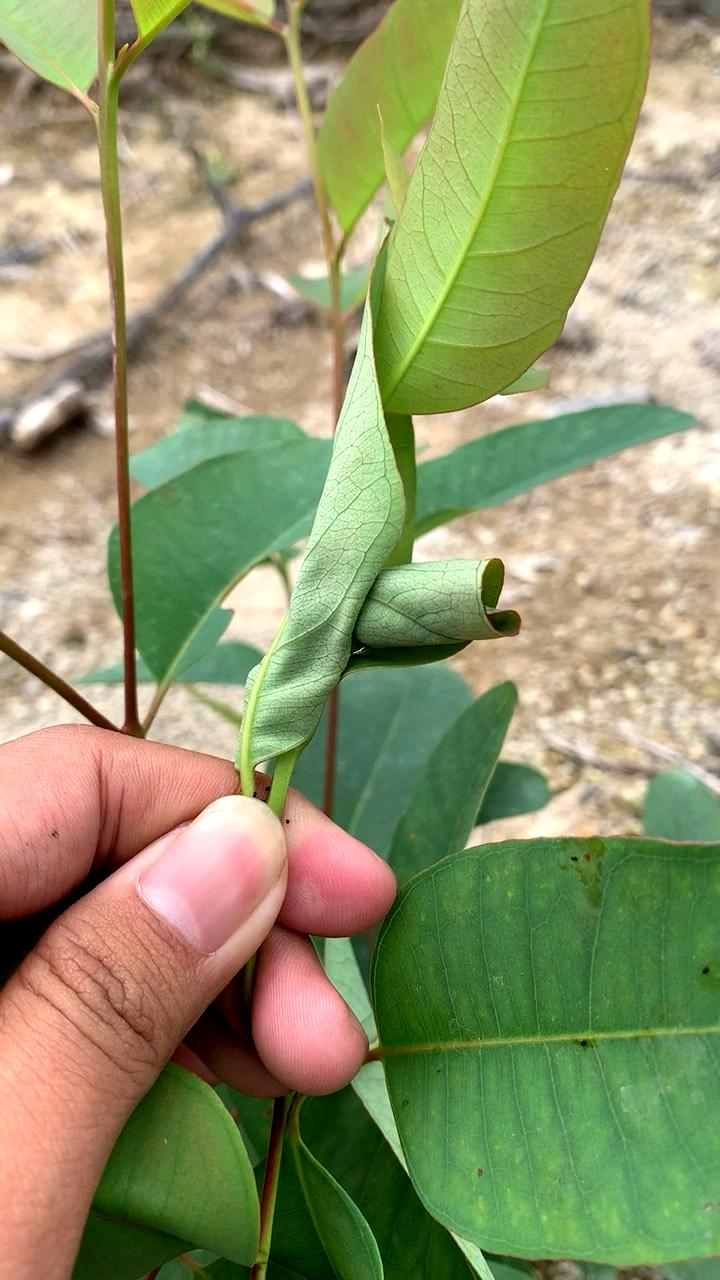Leaf Roller - Leaf: (235, 503, 541, 720)
